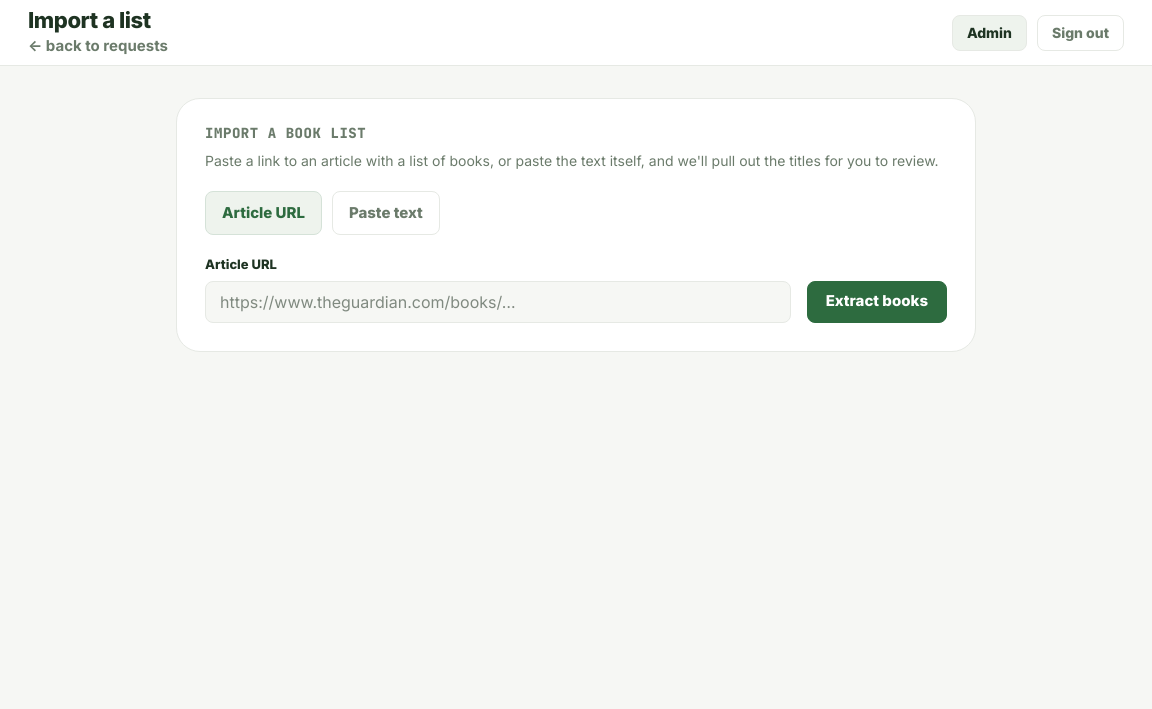
Test: ImportRoute — bulk download › sends usenet always, torrents up to the fresh slot budget, and parks the rest
This screenshot has width=1152, height=709.
Type "https://example.com/list" into the field labelled "Article URL" at (498, 302), box x1=205 y1=280 x2=791 y2=322
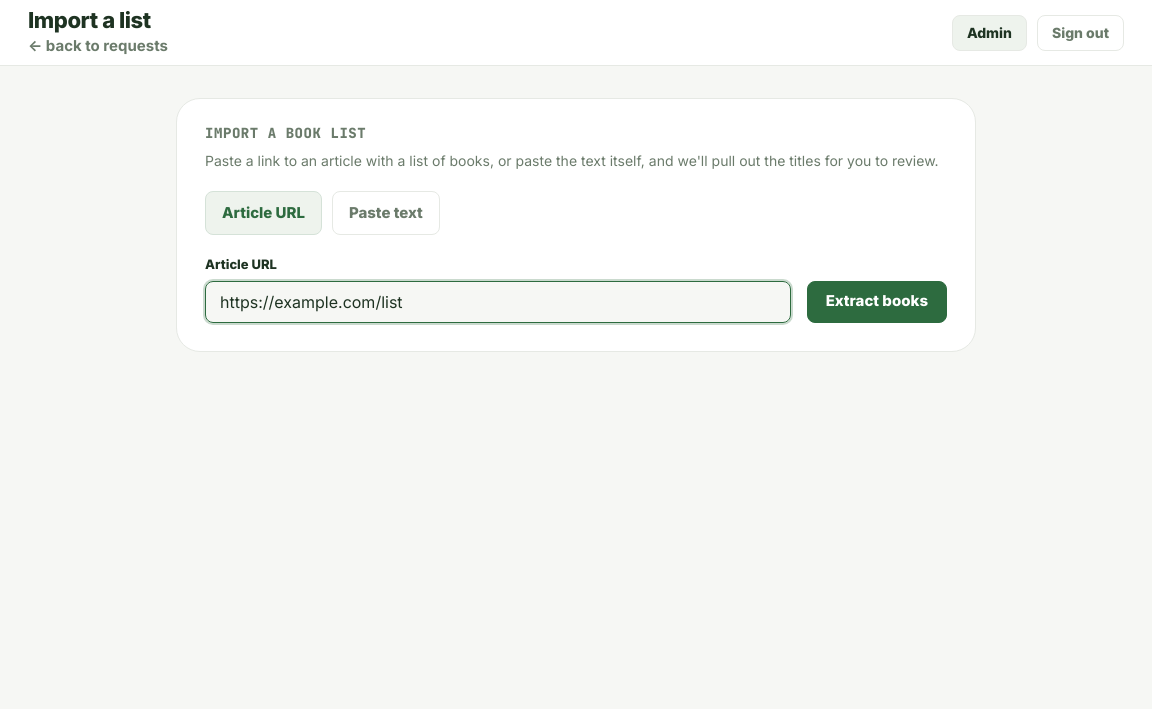
Click the button "Extract books" at (877, 302), box x1=807 y1=280 x2=947 y2=322
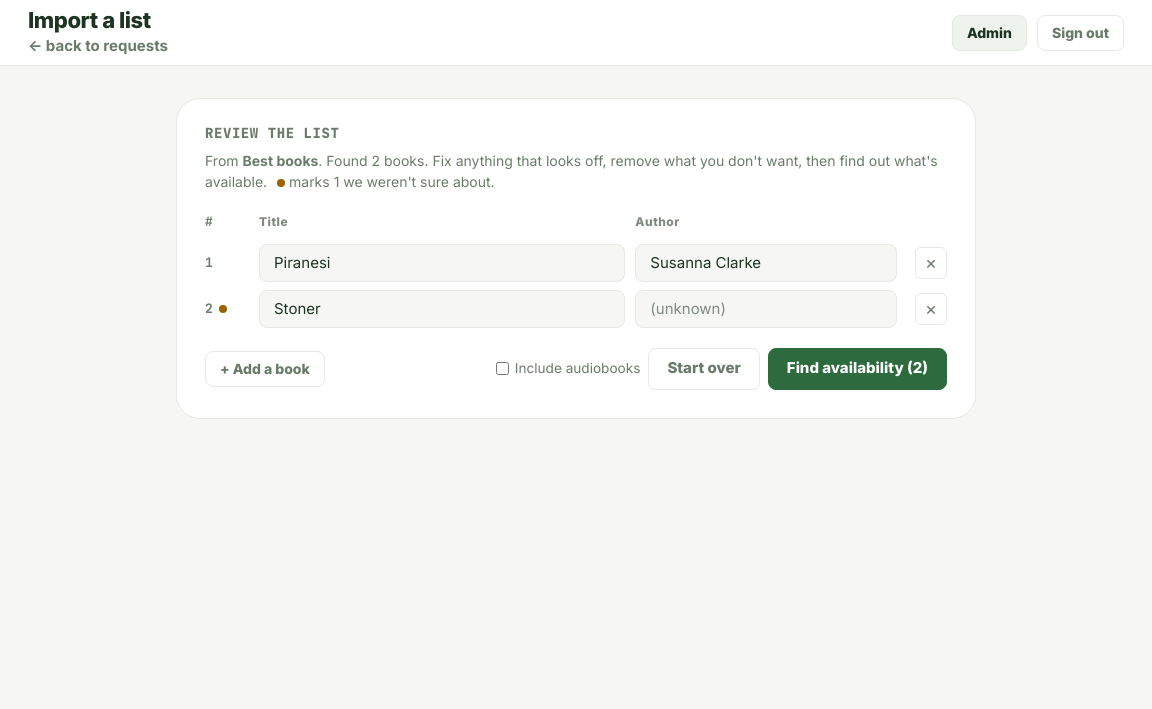
Now the element with test id "import-review" is shown, box x1=176 y1=98 x2=976 y2=418
Click the button "Find availability (2)" at (857, 368), box x1=768 y1=348 x2=947 y2=390
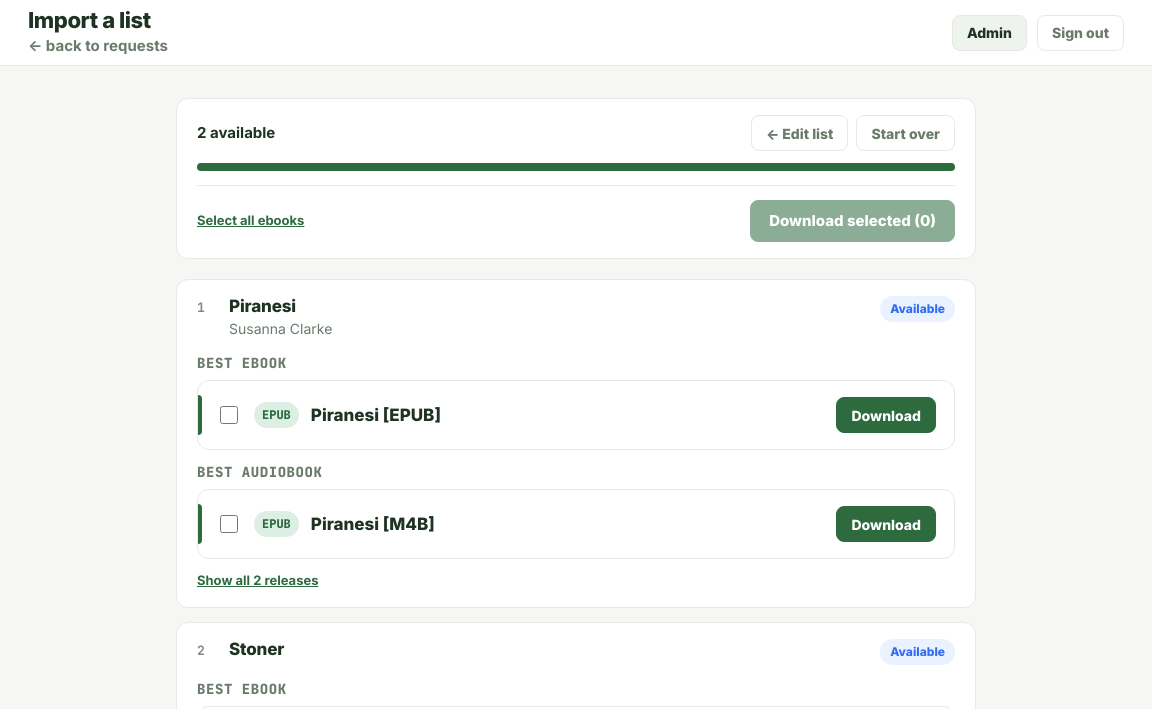
Now the element with test id "import-bulk" is shown, box x1=197 y1=185 x2=955 y2=242
Now the number of checkboxes is 3
Click the button "Select all ebooks" at (251, 221), box x1=197 y1=211 x2=304 y2=231
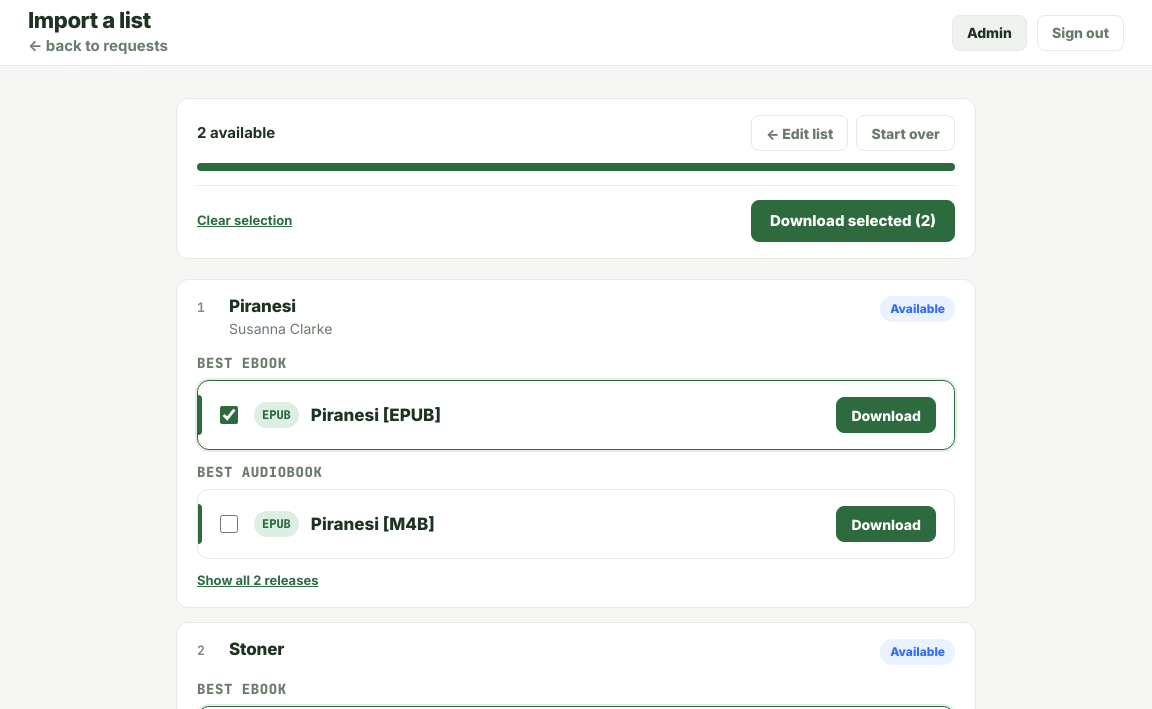
Click the checkbox named "Select audiobook for Piranesi" at (229, 524), box x1=220 y1=515 x2=238 y2=533
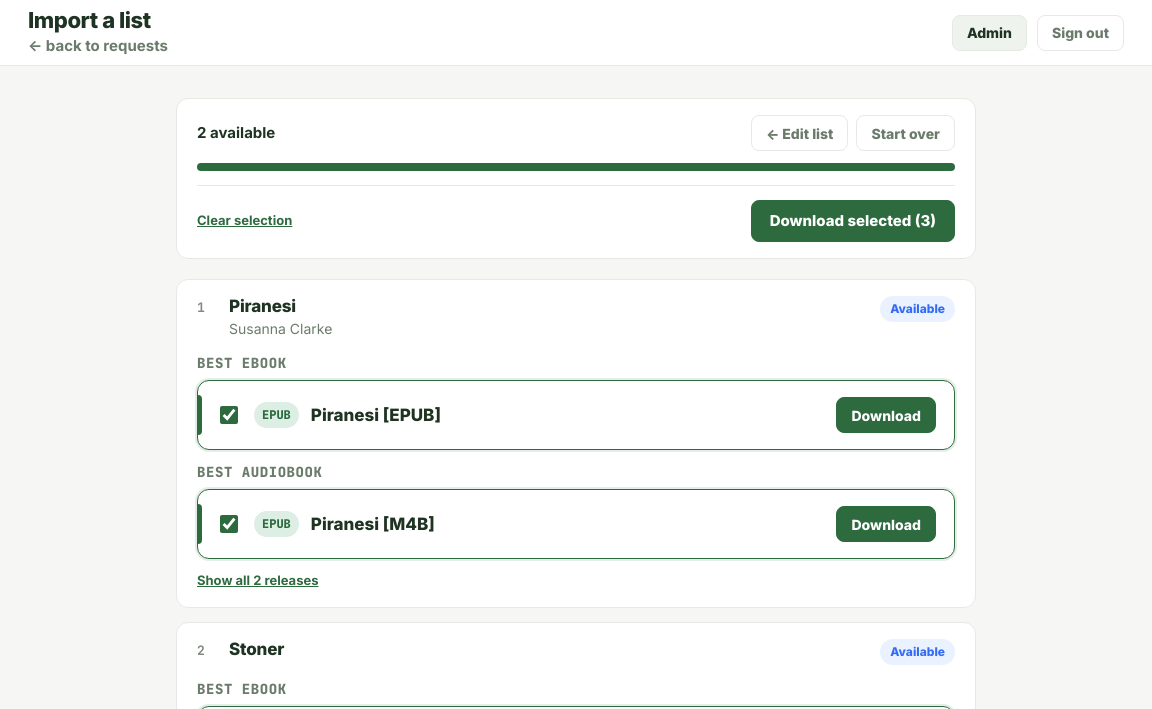
Now the button "Download selected (3)" is enabled
Click the button "Download selected (3)" at (853, 221), box x1=751 y1=200 x2=955 y2=242
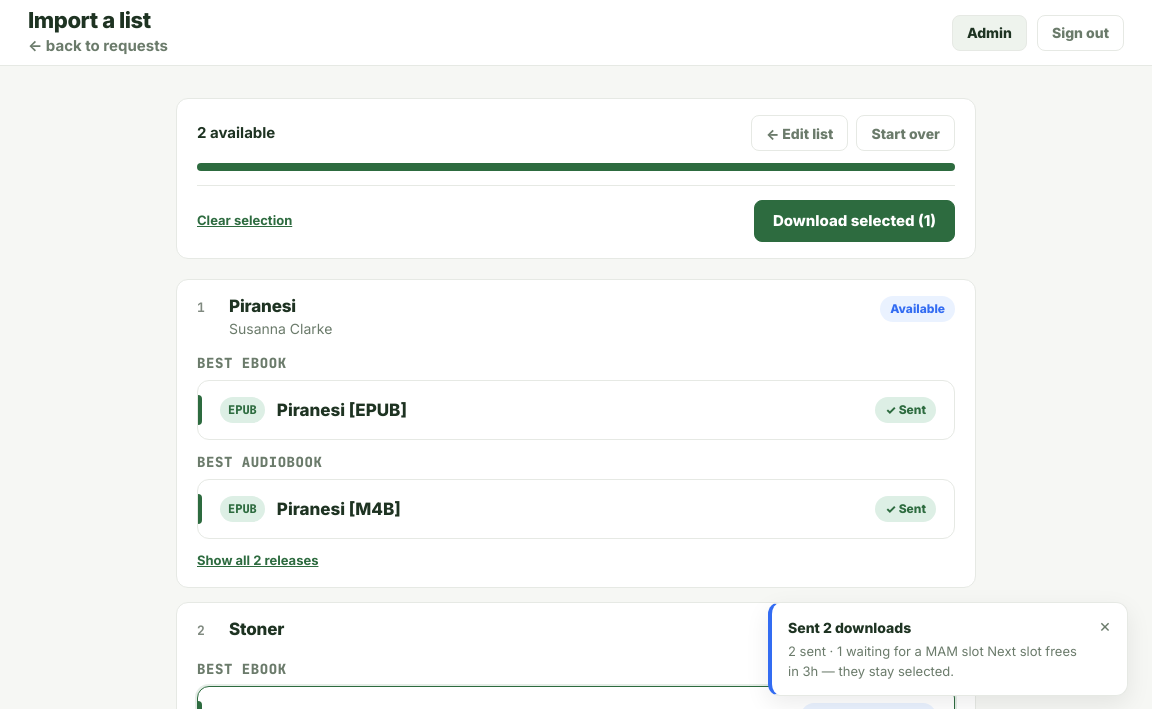
Now the button "Download selected (1)" is shown, box x1=754 y1=200 x2=955 y2=242
Now the text "✓ Sent" is shown 2 times, box x1=876 y1=397 x2=936 y2=423; x1=876 y1=496 x2=936 y2=522
Now the message shows "Sent 2 downloads", box x1=788 y1=619 x2=911 y2=636
